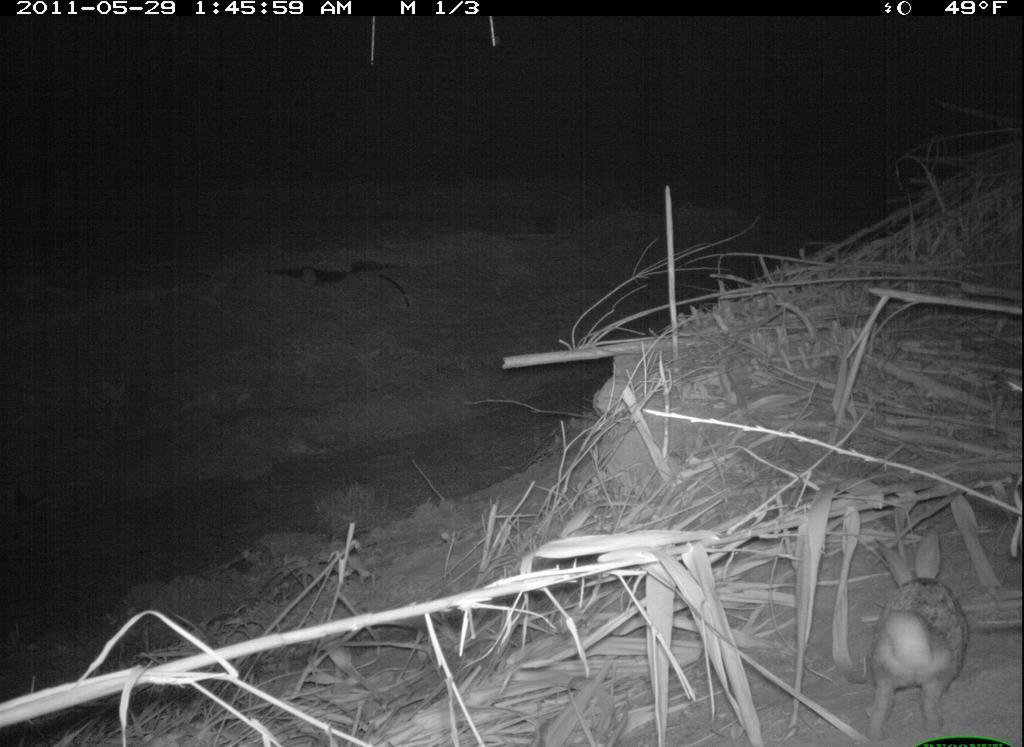rabbit: (849, 525, 984, 744)
